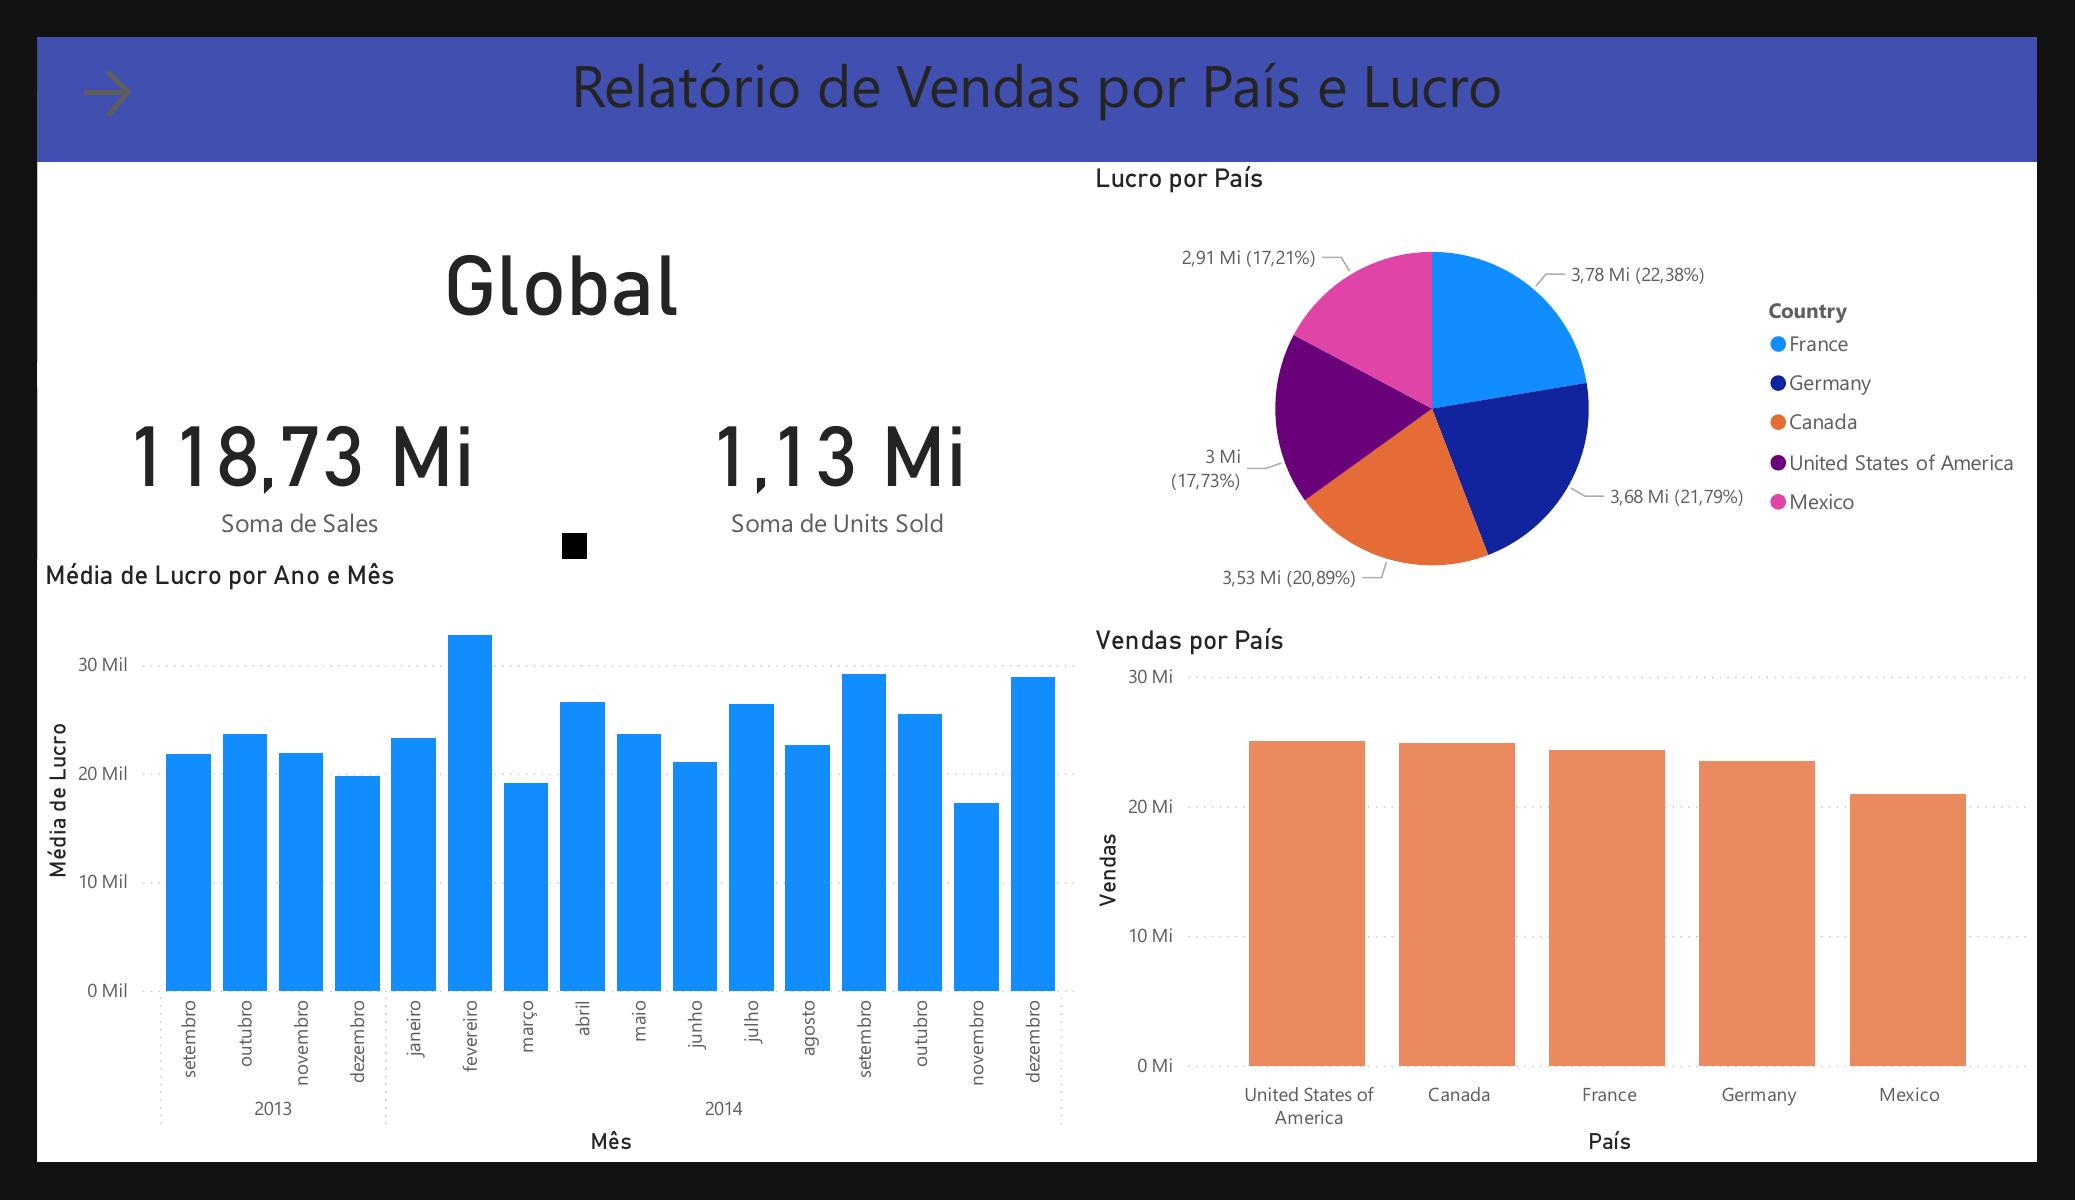

This screenshot's page, from the dashboard's own definition file:
{"tool":"powerbi","page":{"name":"Página 2","canvas":[1280,720],"ordinal":1},"visuals":[{"type":"textbox","box":[10.7,180,671.9,137.2],"z":0,"group":"g1"},{"type":"clusteredColumnChart","fields":{"Y":["Avg(financials.Profit)"],"Category":["financials.Date.Variation.Hierarquia de datas.Ano","financials.Date.Variation.Hierarquia de datas.Mês"]},"box":[0,333.8,671.1,386.2],"z":0},{"type":"textbox","box":[0,0,1280,80],"z":1000,"group":"g1"},{"type":"clusteredColumnChart","fields":{"Y":["Avg(financials.Profit)"],"Category":["financials.Date.Variation.Hierarquia de datas.Ano","financials.Date.Variation.Hierarquia de datas.Mês"]},"box":[16,336,672,384],"z":1000},{"type":"card","fields":{"Values":["Sum(financials.Sales)"]},"box":[0,208,336,128],"z":2000,"group":"g1"},{"type":"clusteredColumnChart","fields":{"Y":["Avg(financials.Profit)"],"Category":["financials.Date.Variation.Hierarquia de datas.Ano","financials.Date.Variation.Hierarquia de datas.Mês"]},"box":[10,333.8,671.1,386.2],"z":2000},{"type":"card","fields":{"Values":["Sum(financials.Units Sold)"]},"box":[352,208,320,128],"z":3000,"group":"g1"},{"type":"clusteredColumnChart","fields":{"Y":["Avg(financials.Profit)"],"Category":["financials.Date.Variation.Hierarquia de datas.Ano","financials.Date.Variation.Hierarquia de datas.Mês"]},"box":[20,333.8,671.1,386.2],"z":3000},{"type":"group","id":"g1","title":"Grupo 1","box":[0,0,1280,720],"z":4000},{"type":"pieChart","title":"Lucro por País","fields":{"Category":["financials.Country"],"Y":["Sum(financials.Profit)"]},"box":[672,80,608,296],"z":4000,"group":"g1"},{"type":"actionButton","box":[24,16,96,40],"z":4001},{"type":"clusteredColumnChart","title":"Média de Lucro por Ano e Mês","fields":{"Y":["Avg(financials.Profit)"],"Category":["financials.Date.Variation.Hierarquia de datas.Ano","financials.Date.Variation.Hierarquia de datas.Mês"]},"box":[0,333.8,671.1,386.2],"z":5000,"group":"g1"},{"type":"clusteredColumnChart","title":"Vendas por País","fields":{"Category":["financials.Country"],"Y":["Sum(financials.Sales)"]},"box":[672,376,608,344],"z":6000,"group":"g1"},{"type":"card","fields":{"Values":["financials.Vendas Pais_Selecionado"]},"box":[0,80,672,144],"z":7000,"group":"g1"}]}

Visuals, with their boxes on the page's 1280x720 design canvas (x1, y1, x2, y2). These are canvas units, not pixel positions in the 2075x1200 screenshot, which may show the page scaled, cropped or inside an application window:
textbox: select_region(11, 180, 683, 317)
clusteredColumnChart - Avg(financials.Profit) x financials.Date.Variation.Hierarquia de datas.Ano: select_region(0, 334, 671, 720)
textbox: select_region(0, 0, 1280, 80)
clusteredColumnChart - Avg(financials.Profit) x financials.Date.Variation.Hierarquia de datas.Ano: select_region(16, 336, 688, 720)
card - Sum(financials.Sales): select_region(0, 208, 336, 336)
clusteredColumnChart - Avg(financials.Profit) x financials.Date.Variation.Hierarquia de datas.Ano: select_region(10, 334, 681, 720)
card - Sum(financials.Units Sold): select_region(352, 208, 672, 336)
clusteredColumnChart - Avg(financials.Profit) x financials.Date.Variation.Hierarquia de datas.Ano: select_region(20, 334, 691, 720)
"Grupo 1" group: select_region(0, 0, 1280, 720)
"Lucro por País" pieChart: select_region(672, 80, 1280, 376)
actionButton: select_region(24, 16, 120, 56)
"Média de Lucro por Ano e Mês" clusteredColumnChart: select_region(0, 334, 671, 720)
"Vendas por País" clusteredColumnChart: select_region(672, 376, 1280, 720)
card - financials.Vendas Pais_Selecionado: select_region(0, 80, 672, 224)
